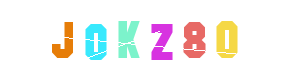0: (179, 0, 259, 80)
8: (154, 0, 234, 80)
J: (25, 0, 105, 80)
K: (110, 0, 190, 80)
O: (71, 0, 151, 80)
Z: (122, 0, 202, 80)
